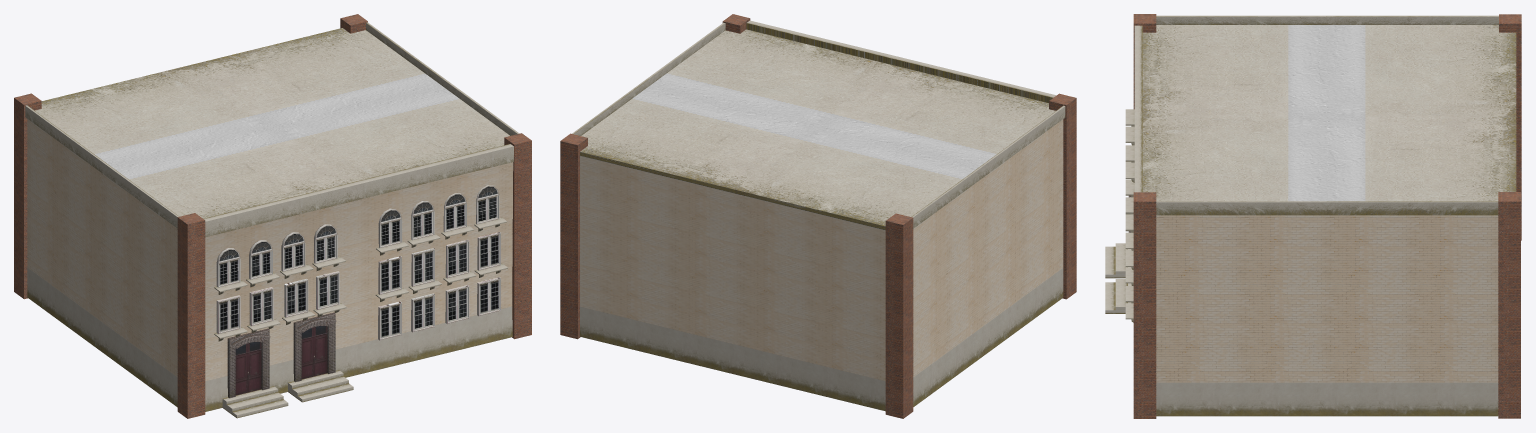
File: city3_h14.fbx
3 renders of one model, left to right at view 1: azimuth 30°, elevation 25°; view 2: azimuth 150°, elevation 25°; view 3: azimuth 270°, elevation 25°, orthographic. The views are drawn at different scales.
Visible parts, largest first — view 1: Default_Layer; view 2: Default_Layer; view 3: Default_Layer.
Part boxes in pixels (bbox=[...]): Default_Layer: bbox=[14, 14, 531, 418]; Default_Layer: bbox=[560, 14, 1076, 418]; Default_Layer: bbox=[1105, 14, 1521, 418].
Size of the model in its own units: 937 by 506 by 878.
